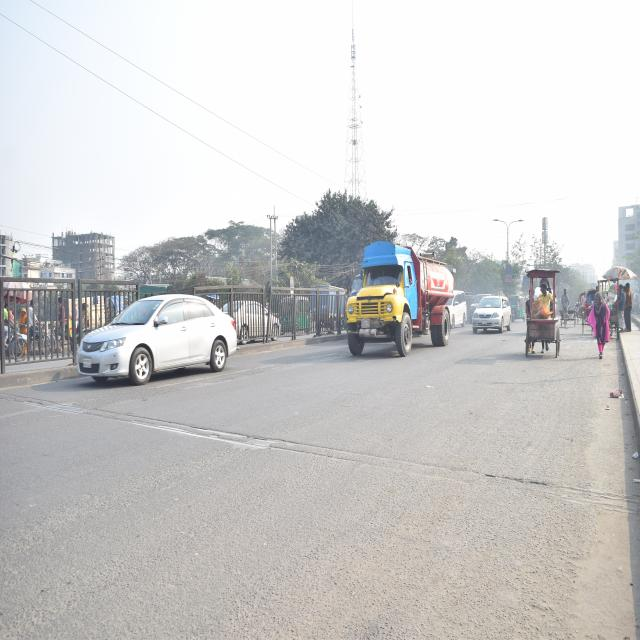car: (81, 290, 231, 395), (235, 294, 278, 343), (474, 285, 510, 343)
microbus: (453, 287, 469, 331)
truck: (344, 236, 452, 356)
